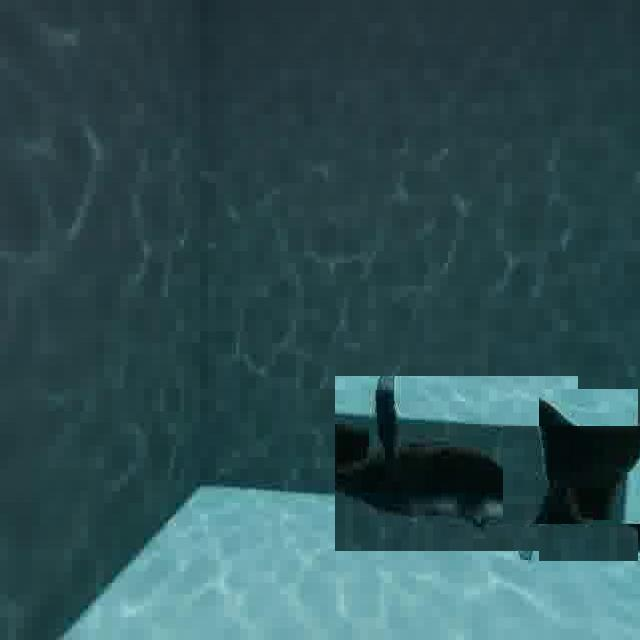Whale: (335, 376, 578, 551), (521, 407, 640, 542)
